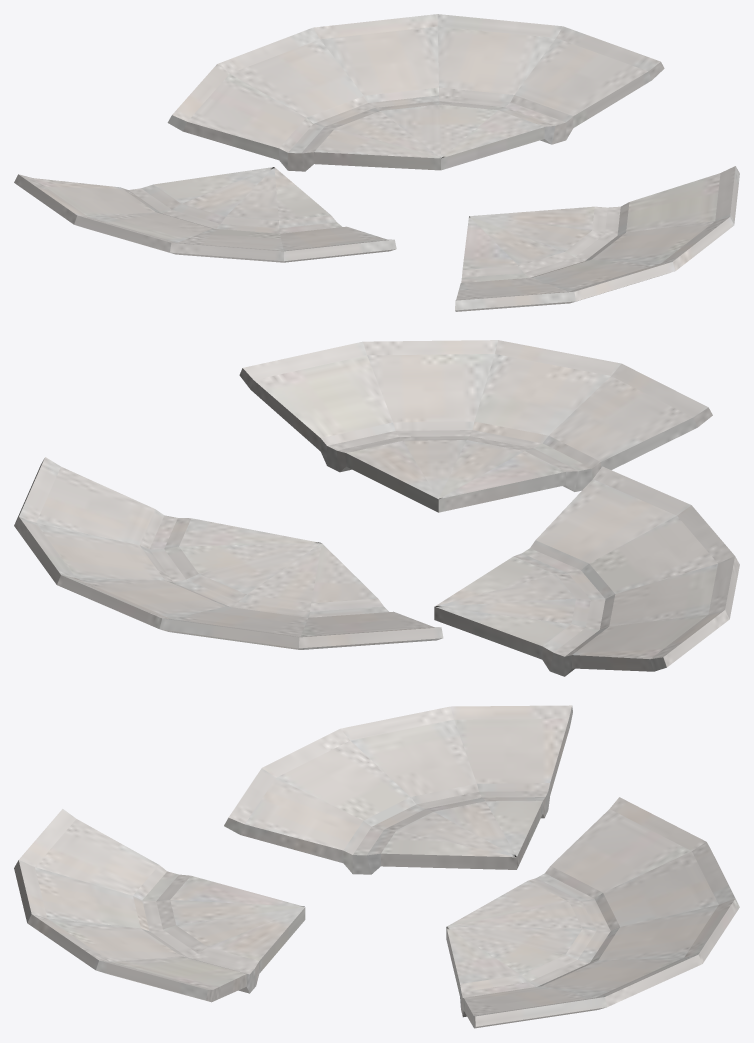
The model's file is plate_broken_lod1_web.glb.
3 views of the same model, one above another, from view 1: azimuth 30°, elevation 25°; view 2: azimuth 150°, elevation 25°; view 3: azimuth 270°, elevation 25° (orthographic). The views are drawn at different scales.
Visible parts, largest first — view 1: PlateBroken_Body; view 2: PlateBroken_Body; view 3: PlateBroken_Body.
Boxes of the visible parts, bbox=[...] form: PlateBroken_Body: bbox=[14, 14, 739, 311]; PlateBroken_Body: bbox=[14, 340, 739, 676]; PlateBroken_Body: bbox=[14, 705, 739, 1028].
Bounding box in the file's own units: 0.3171 × 0.025 × 0.309.
1 material, 1 textured.
